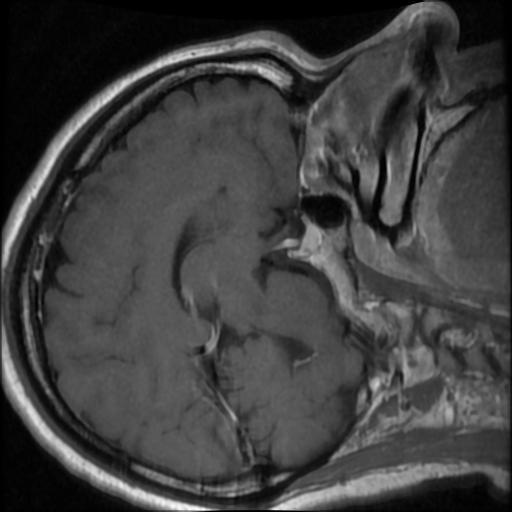pituitary tumour: (286, 215, 321, 260)
